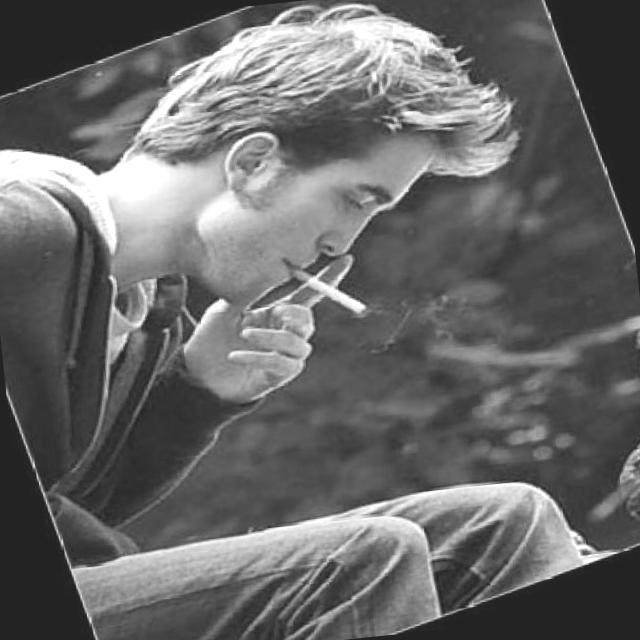smoke: (275, 246, 374, 341)
